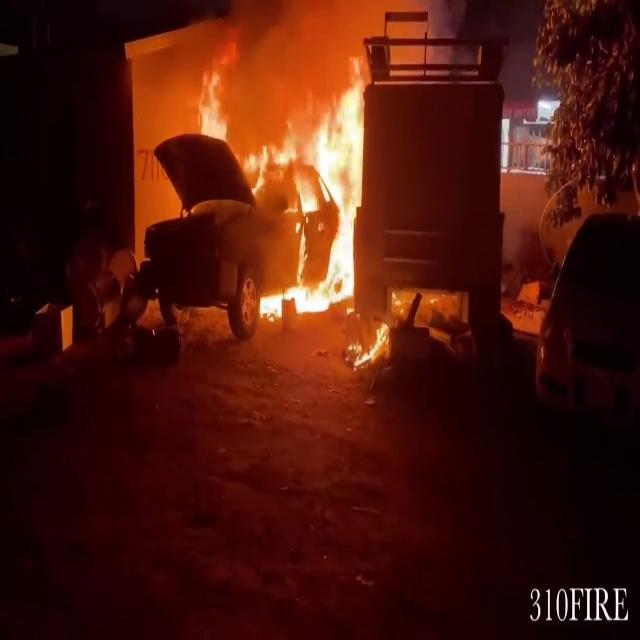Fire: (253, 56, 383, 322), (192, 58, 230, 138), (349, 314, 391, 371)
